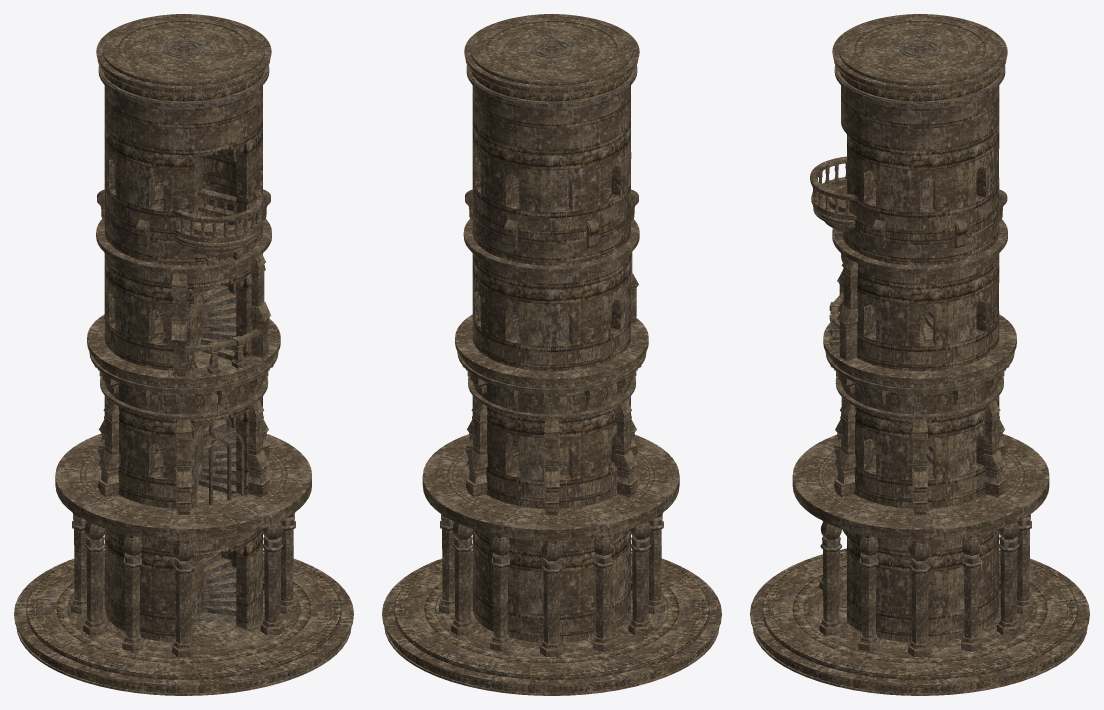
The model's file is materials_5_building_5.fbx.
3 views of the same model, side by side, from view 1: azimuth 30°, elevation 25°; view 2: azimuth 150°, elevation 25°; view 3: azimuth 270°, elevation 25° (orthographic).
Visible parts, largest first — view 1: materials_5_building_5; view 2: materials_5_building_5; view 3: materials_5_building_5.
Boxes of the visible parts, left/top/right/bottom form: materials_5_building_5: left=14, top=14, right=353, bottom=695; materials_5_building_5: left=382, top=14, right=721, bottom=695; materials_5_building_5: left=750, top=14, right=1089, bottom=695.
Size of the model in its own units: 1237 by 2316 by 1237.
